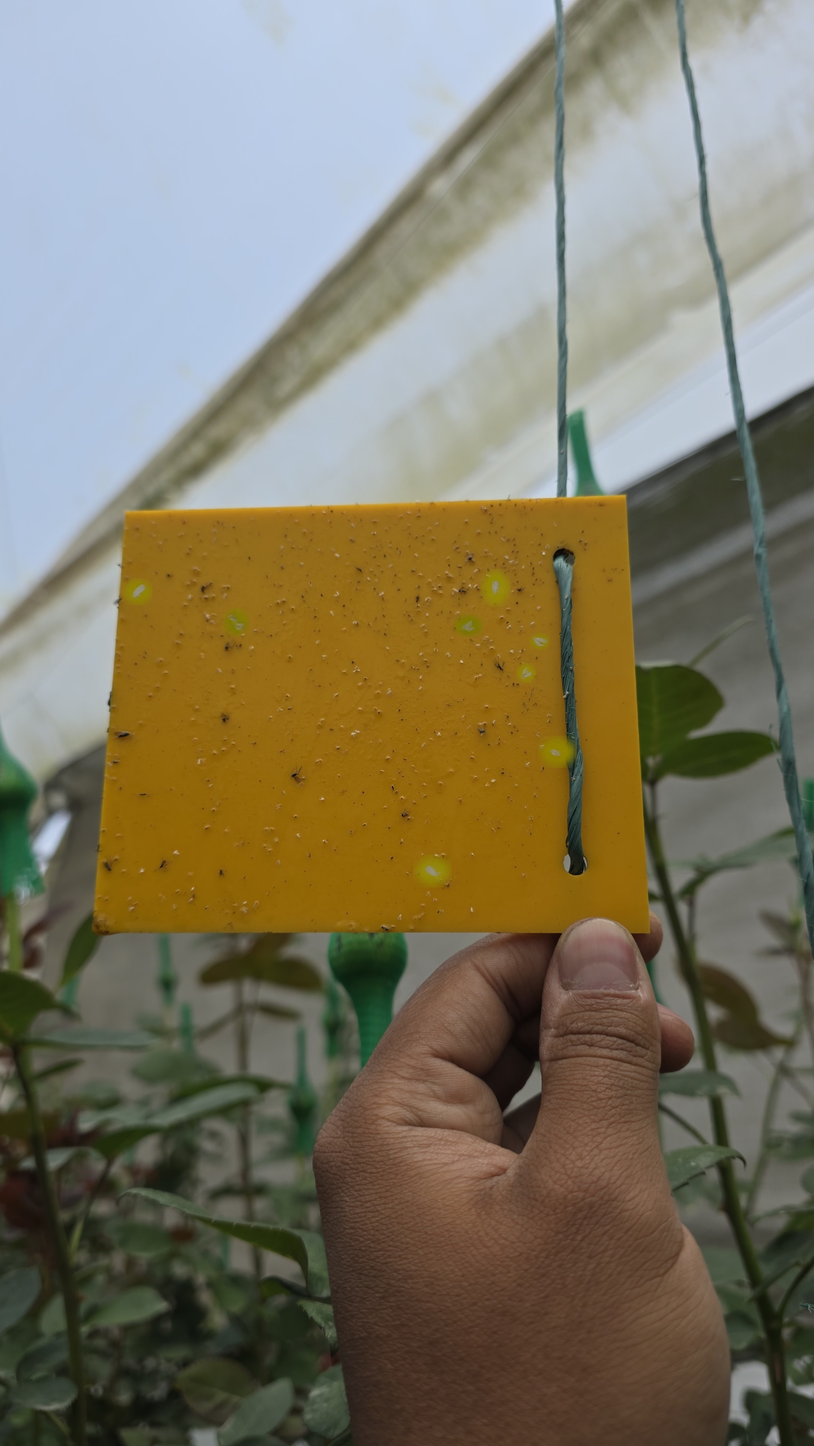WF: (544, 740, 571, 763), (419, 859, 446, 882), (485, 574, 506, 601), (127, 582, 148, 601), (226, 612, 245, 632), (458, 617, 479, 634), (519, 666, 533, 680), (532, 635, 547, 647), (321, 654, 329, 662), (205, 613, 213, 620), (241, 907, 248, 915), (253, 900, 260, 908), (187, 594, 194, 601), (421, 742, 428, 749), (334, 553, 342, 559), (485, 573, 493, 579), (173, 850, 180, 856), (452, 588, 459, 594), (320, 510, 327, 516), (334, 591, 340, 598), (129, 906, 136, 912), (426, 891, 432, 898), (407, 510, 413, 517), (538, 560, 544, 567), (330, 610, 335, 618), (370, 531, 378, 536), (190, 886, 196, 892), (173, 904, 179, 910), (351, 732, 357, 738), (491, 778, 497, 784), (530, 621, 536, 627), (295, 833, 302, 838), (425, 597, 432, 602), (277, 860, 282, 867), (398, 914, 403, 921), (434, 854, 441, 859), (140, 868, 145, 874), (470, 907, 475, 913), (414, 553, 419, 559), (385, 646, 391, 651), (485, 783, 491, 788), (526, 762, 531, 768), (508, 723, 514, 728), (546, 713, 552, 718), (475, 643, 481, 648), (455, 610, 461, 615), (506, 625, 512, 630), (473, 584, 479, 589), (545, 544, 550, 550), (378, 592, 385, 596), (351, 523, 356, 528), (367, 577, 372, 582), (316, 640, 321, 645), (433, 898, 438, 903), (437, 732, 442, 737), (419, 652, 424, 657), (446, 653, 451, 658), (474, 568, 479, 573), (471, 853, 476, 858), (540, 745, 545, 750), (510, 650, 515, 655), (504, 555, 509, 560), (509, 560, 514, 565), (389, 564, 395, 568), (320, 797, 326, 801), (355, 730, 361, 734), (387, 691, 393, 695), (419, 686, 423, 692), (460, 659, 464, 665), (536, 607, 542, 611), (243, 901, 248, 905), (485, 768, 489, 773), (562, 695, 567, 699), (353, 621, 357, 625), (469, 585, 473, 589), (522, 873, 526, 877), (522, 565, 525, 570), (426, 614, 429, 618), (420, 676, 423, 680), (543, 552, 546, 556)
